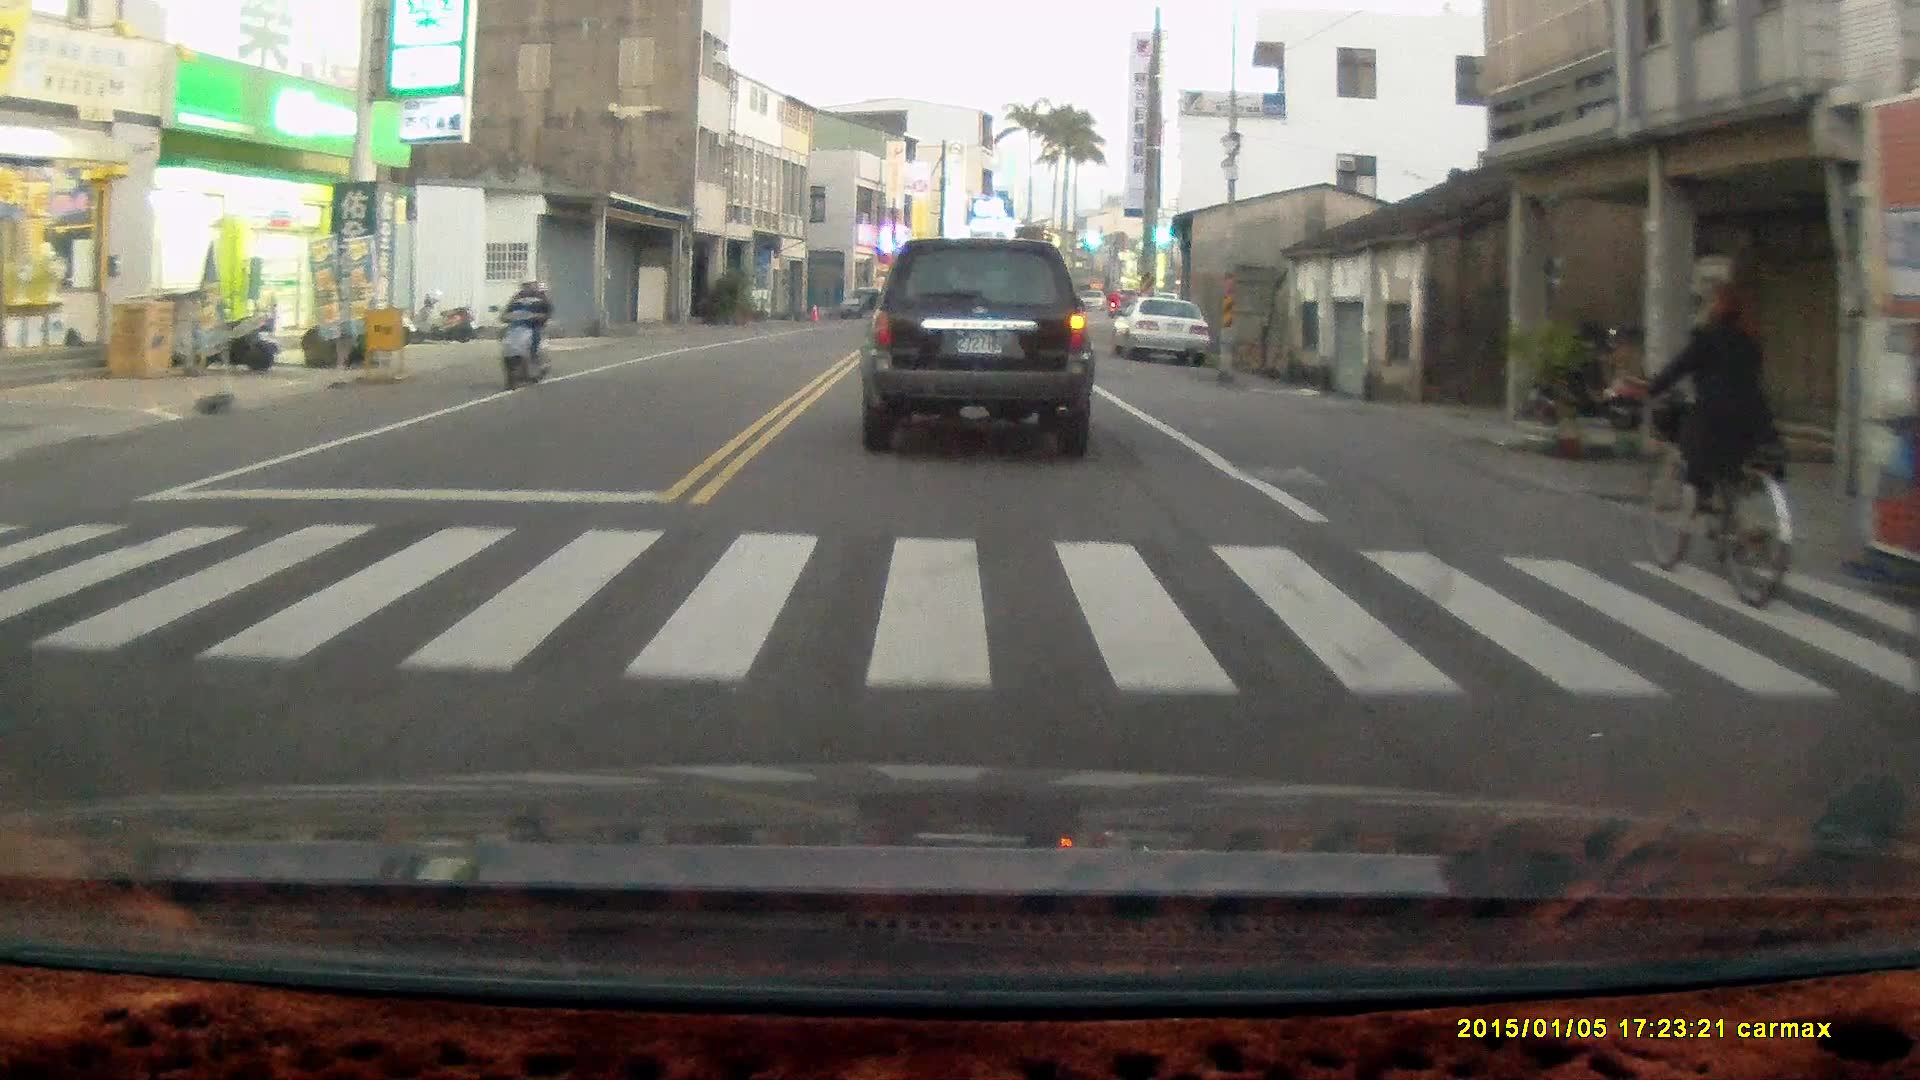rider: (1636, 282, 1798, 613), (487, 269, 553, 391)
vehicle: (863, 236, 1097, 461), (1117, 297, 1214, 364)
